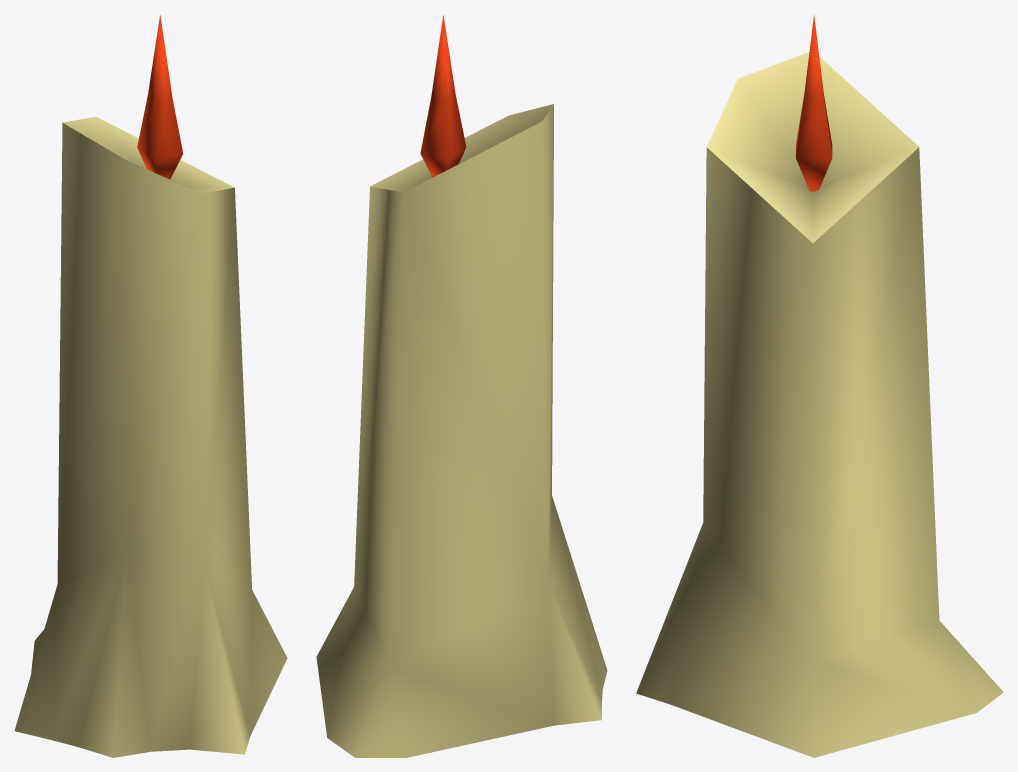
The model's file is obj_candle_B_LOW.FBX.
The picture shows the model from 3 angles, left to right: view 1: azimuth 30°, elevation 25°; view 2: azimuth 150°, elevation 25°; view 3: azimuth 270°, elevation 25°; orthographic projection.
Parts seen in each view (by area): view 1: obj_candle_B_LOW; view 2: obj_candle_B_LOW; view 3: obj_candle_B_LOW.
Boxes of the visible parts, <box> form: obj_candle_B_LOW: <box>14,15,287,757</box>; obj_candle_B_LOW: <box>316,15,607,757</box>; obj_candle_B_LOW: <box>636,14,1003,757</box>.
Bounding box in the file's own units: 0.2834 × 0.6541 × 0.32.
